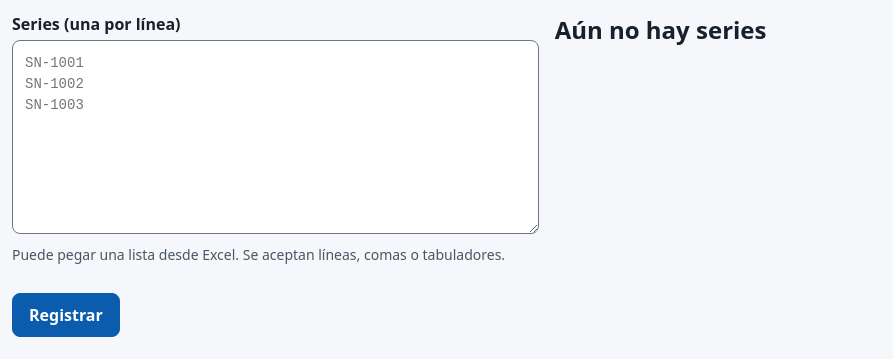
Test: CapturaSeries dentro de un formulario › sin series no deja registrar y lo explica
The image size is (893, 359).
Click the button with test id "f-enviar" at x=66, y=315, box [12,293,120,337]
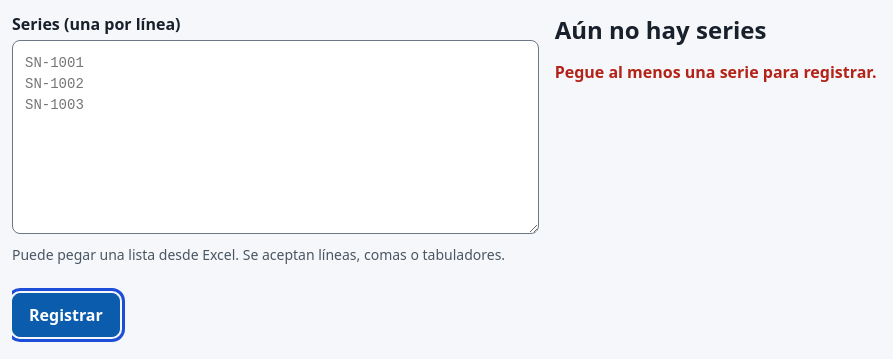
Check: the message "Pegue al menos una serie para registrar." is shown, box [555,61,877,83]
